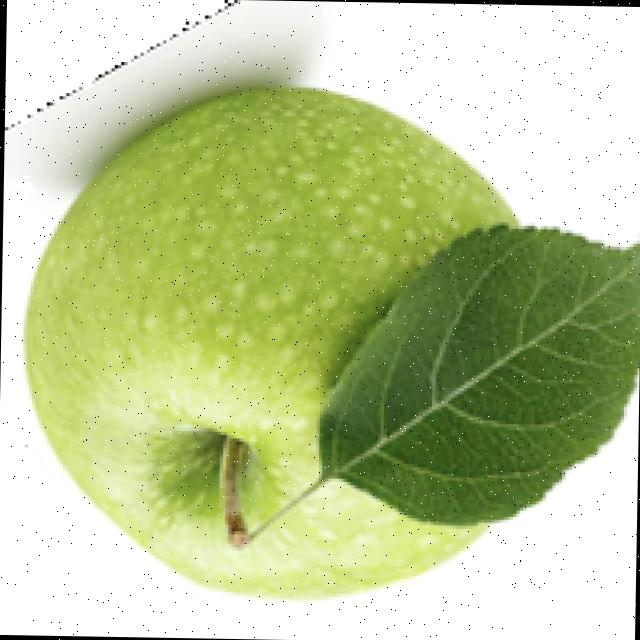apple: (15, 1, 640, 605)
